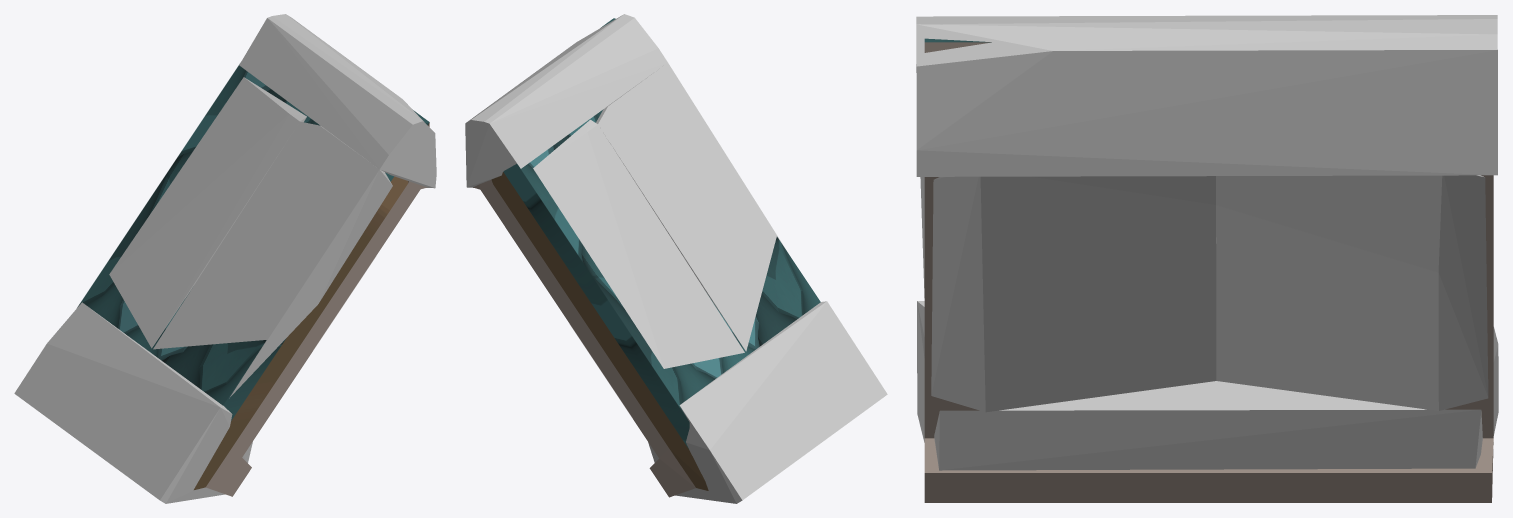
The model's file is SM_Bld_Roof_Straight_Small_Half_01.fbx.
The picture shows the model from 3 angles, left to right: view 1: azimuth 30°, elevation 25°; view 2: azimuth 150°, elevation 25°; view 3: azimuth 270°, elevation 25°; orthographic projection. The views are drawn at different scales.
Visible parts, largest first — view 1: SM_Bld_Roof_Straight_Small_Half_01_ConvexHulls, SM_Bld_Roof_Straight_Small_Half_01; view 2: SM_Bld_Roof_Straight_Small_Half_01_ConvexHulls, SM_Bld_Roof_Straight_Small_Half_01; view 3: SM_Bld_Roof_Straight_Small_Half_01_ConvexHulls, SM_Bld_Roof_Straight_Small_Half_01.
Boxes of the visible parts, box(x1,y1,x2,y2) form: SM_Bld_Roof_Straight_Small_Half_01_ConvexHulls: box(14, 14, 436, 503); SM_Bld_Roof_Straight_Small_Half_01: box(77, 64, 429, 496); SM_Bld_Roof_Straight_Small_Half_01_ConvexHulls: box(465, 14, 887, 503); SM_Bld_Roof_Straight_Small_Half_01: box(473, 18, 820, 497); SM_Bld_Roof_Straight_Small_Half_01_ConvexHulls: box(916, 15, 1498, 470); SM_Bld_Roof_Straight_Small_Half_01: box(924, 38, 1493, 502).
Size of the model in its own units: 141 by 128 by 161.
4 materials, 3 textured.
